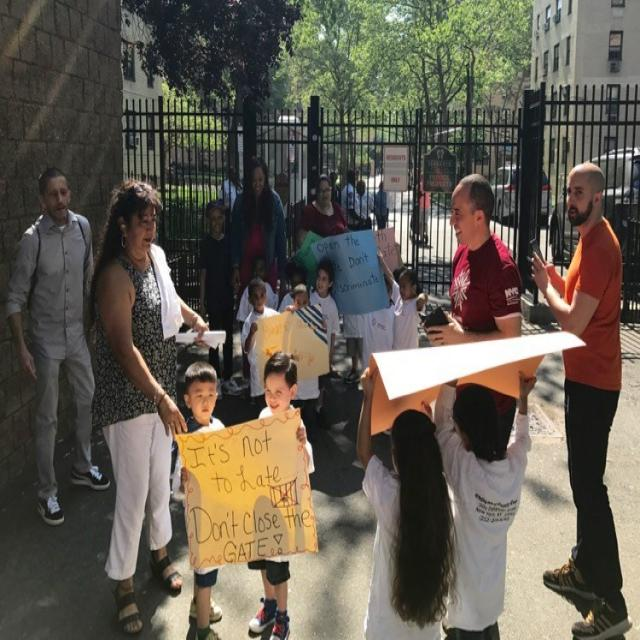body: (84, 179, 212, 639), (526, 158, 635, 639), (2, 161, 112, 528), (352, 362, 462, 638), (416, 170, 524, 450), (431, 365, 538, 639), (246, 349, 316, 640), (170, 358, 227, 640), (226, 155, 290, 391), (239, 275, 297, 420), (283, 281, 327, 465), (197, 200, 240, 384), (375, 248, 429, 350), (360, 257, 405, 375), (234, 254, 274, 380), (309, 257, 342, 371), (298, 173, 349, 239), (322, 164, 362, 213), (340, 168, 368, 232), (342, 314, 366, 384), (276, 264, 309, 314), (219, 162, 244, 225), (352, 178, 376, 233), (390, 234, 415, 286), (417, 173, 430, 246), (407, 177, 421, 236), (374, 180, 389, 231)
